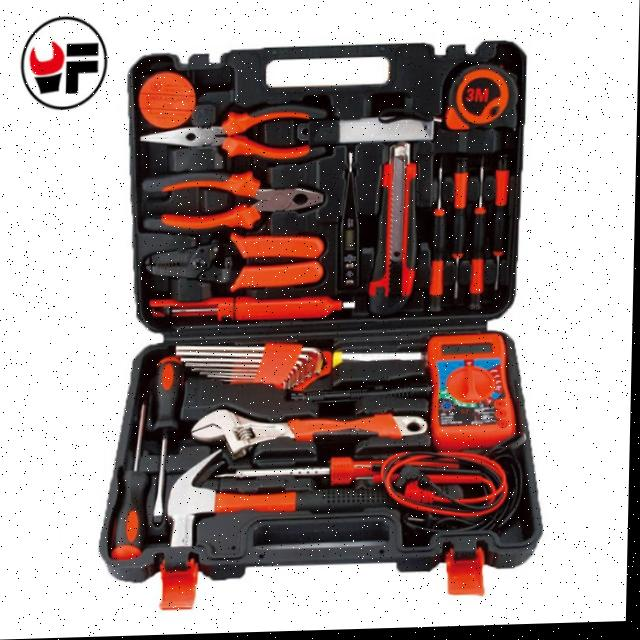Screwdriver: (113, 404, 152, 561), (155, 358, 185, 525), (429, 170, 447, 315), (471, 162, 487, 312), (453, 162, 469, 302), (494, 159, 510, 294)
